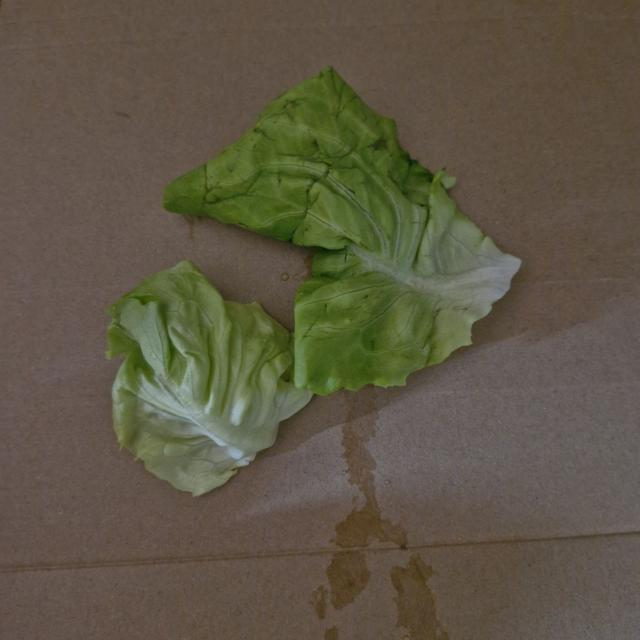food_waste: (164, 53, 530, 401), (94, 258, 306, 494)
